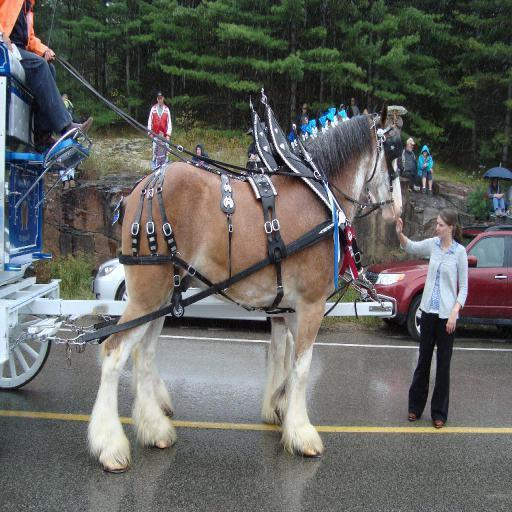horse: (84, 100, 402, 474)
